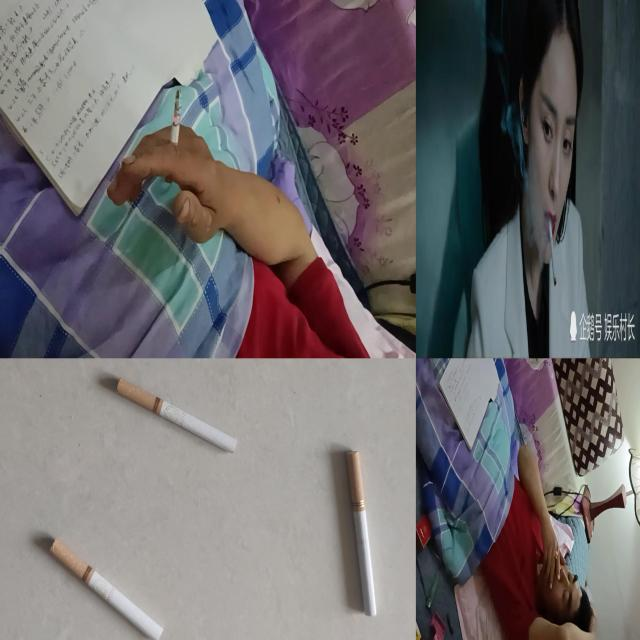smoking: (51, 540, 166, 640), (115, 379, 238, 455), (348, 452, 378, 619), (164, 88, 183, 185), (547, 212, 558, 290), (554, 546, 559, 564)
